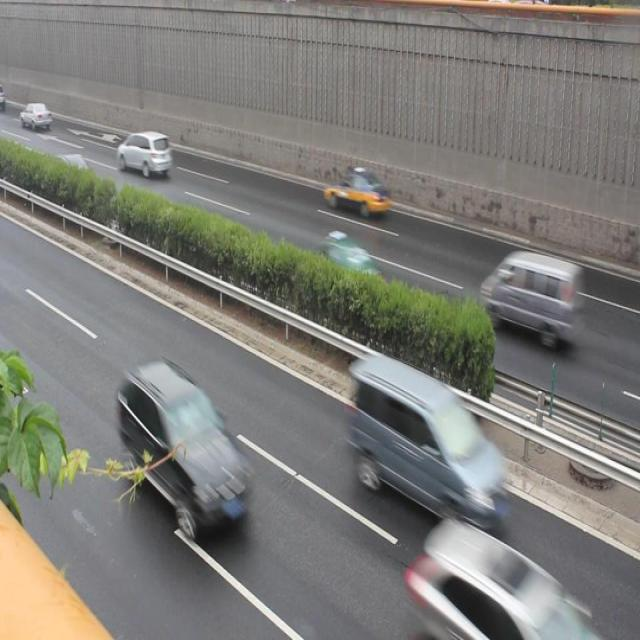car: (118, 358, 250, 534), (413, 524, 595, 640), (282, 235, 385, 314), (322, 168, 390, 218), (116, 131, 172, 176), (41, 150, 91, 196)
truck: (349, 354, 504, 532), (477, 248, 582, 345)
